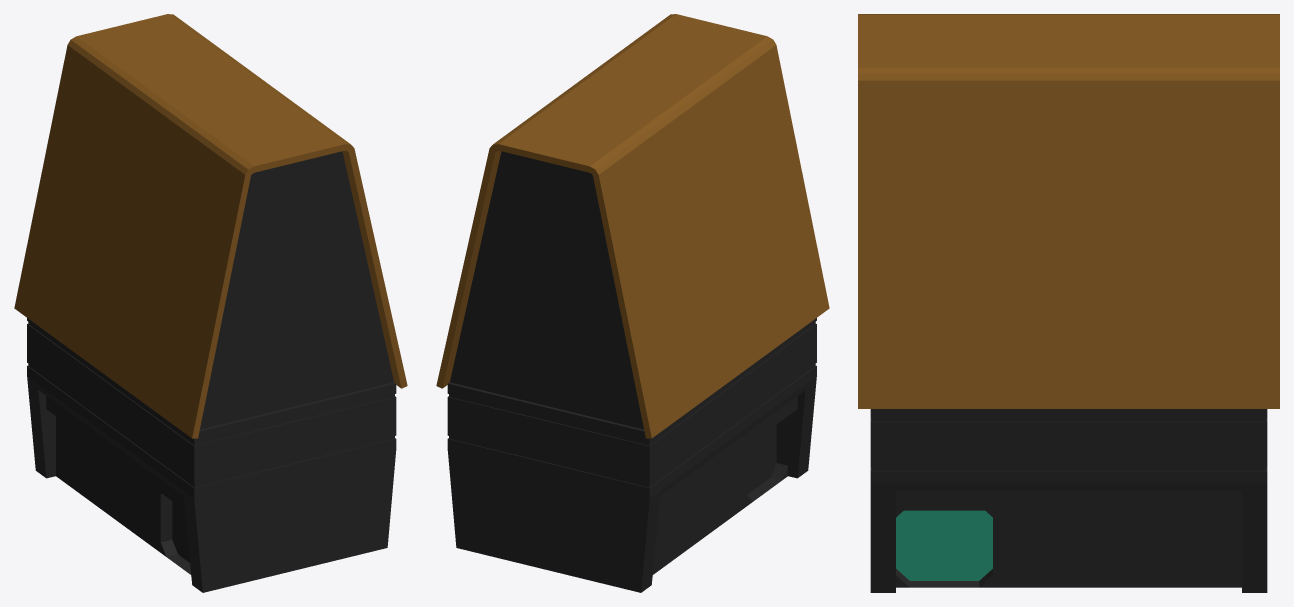
Rendered from small_house.fbx.
3 renders of one model, left to right at view 1: azimuth 30°, elevation 25°; view 2: azimuth 150°, elevation 25°; view 3: azimuth 270°, elevation 25°, orthographic. The views are drawn at different scales.
Parts seen in each view (by area): view 1: Cube.158; view 2: Cube.158; view 3: Cube.158.
Boxes of the visible parts, x1,y1,x2,y2 form: Cube.158: [14, 14, 407, 592]; Cube.158: [436, 14, 829, 592]; Cube.158: [858, 14, 1279, 592].
Bounding box in the file's own units: 7 × 13.01 × 10.
